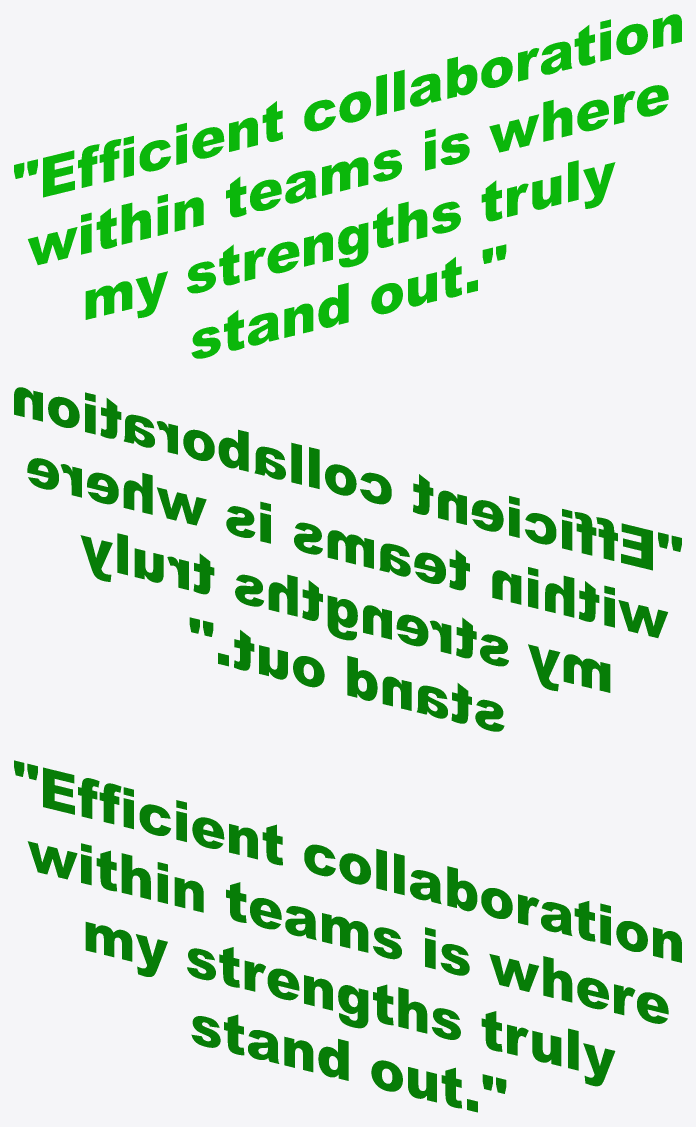
File: desc-n3collaboration.glb
The picture shows the model from 3 angles, top to bottom: view 1: azimuth 30°, elevation 25°; view 2: azimuth 150°, elevation 25°; view 3: azimuth 330°, elevation 25°; orthographic projection.
Parts seen in each view (by area): view 1: collaboration; view 2: collaboration; view 3: collaboration.
Part boxes in pixels (x1,y1,x2,y2): collaboration: (14, 14, 681, 358); collaboration: (14, 387, 681, 731); collaboration: (14, 760, 681, 1112).
Size of the model in its own units: 0.1353 by 0.0465 by 1.03e-17.
